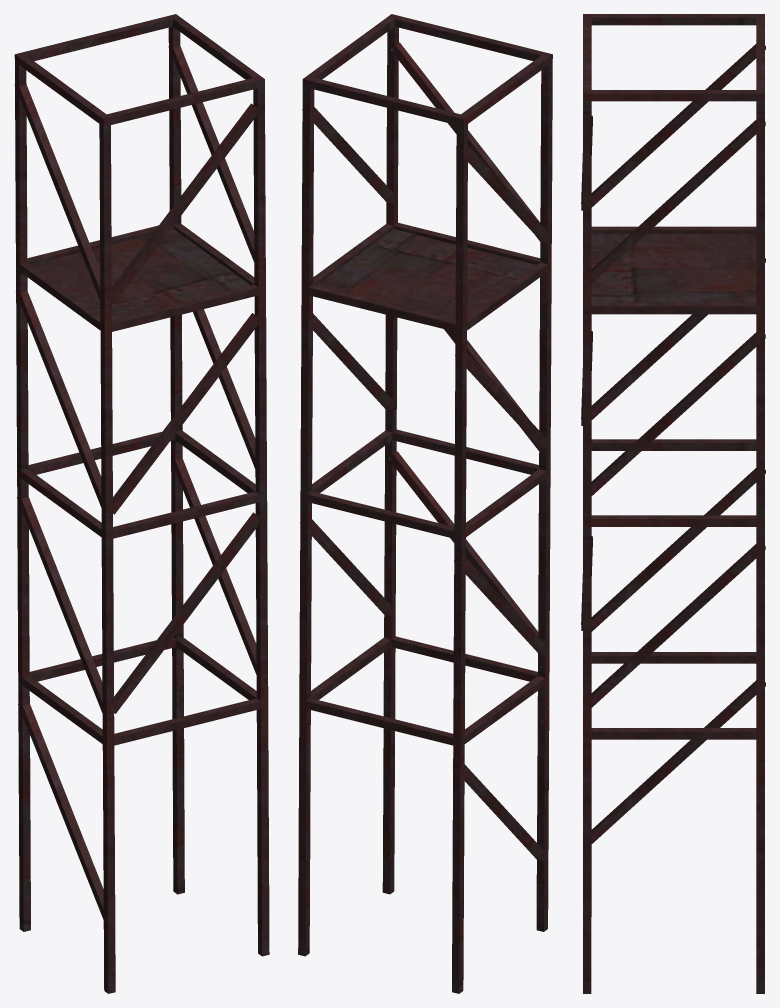
Rendered from love-death-structure-art.glb.
3 views of the same model, side by side, from view 1: azimuth 30°, elevation 25°; view 2: azimuth 150°, elevation 25°; view 3: azimuth 270°, elevation 25° (orthographic). The views are drawn at different scales.
Visible parts, largest first — view 1: LoveDeath_Structure_Art; view 2: LoveDeath_Structure_Art; view 3: LoveDeath_Structure_Art.
Boxes of the visible parts, left/top/right/bottom form: LoveDeath_Structure_Art: left=14, top=14, right=269, bottom=993; LoveDeath_Structure_Art: left=298, top=14, right=552, bottom=993; LoveDeath_Structure_Art: left=581, top=14, right=765, bottom=993.
Bounding box in the file's own units: 2.26 × 11.43 × 2.13.
Materials: 1 (1 with a texture image).
